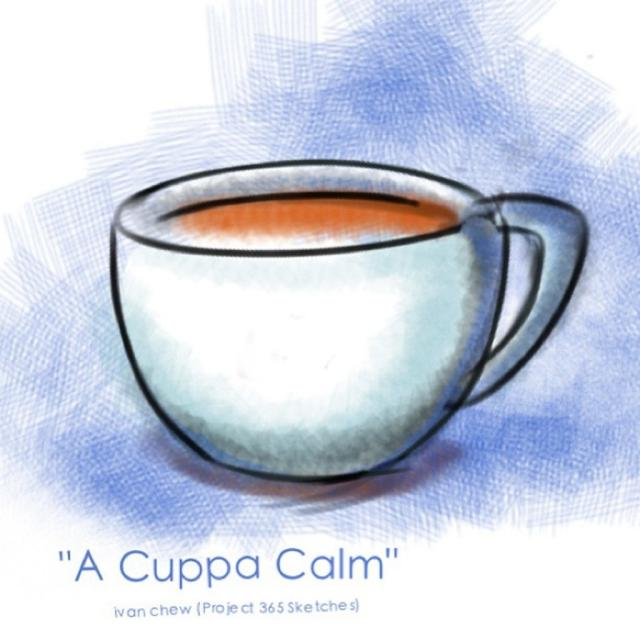Coffee: (143, 187, 430, 221)
Tea: (107, 156, 588, 483), (155, 193, 453, 243)
